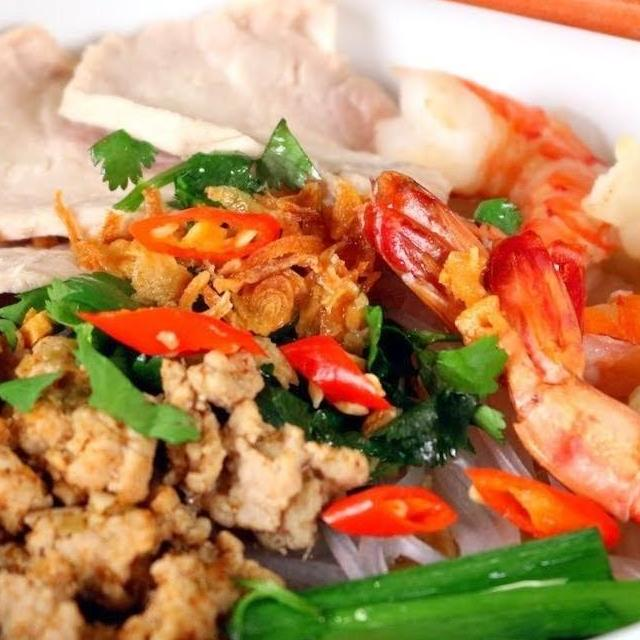banh hu tieu: (212, 389, 640, 616)
hu tieu: (0, 3, 640, 640)
thit bam: (0, 302, 393, 640)
thit heo: (42, 0, 457, 210), (0, 0, 236, 246), (0, 139, 135, 334)
tom: (360, 127, 640, 417), (332, 52, 634, 284), (471, 216, 640, 565)
